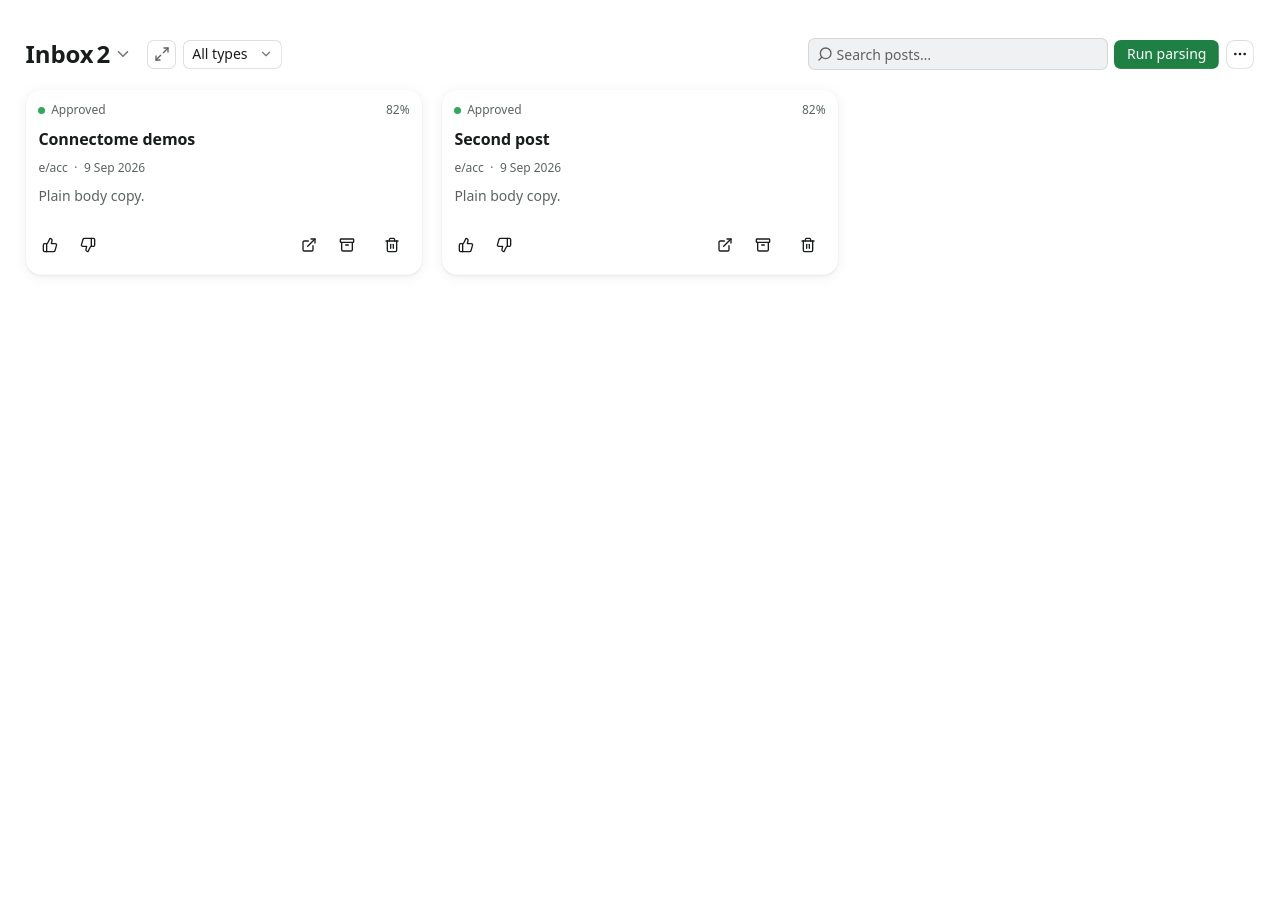
it: mode routing › opens the peek in drawer mode, from the list's own data and without a request
Click the button named "side panel".
click(162, 54)  # box [148,40,176,69]
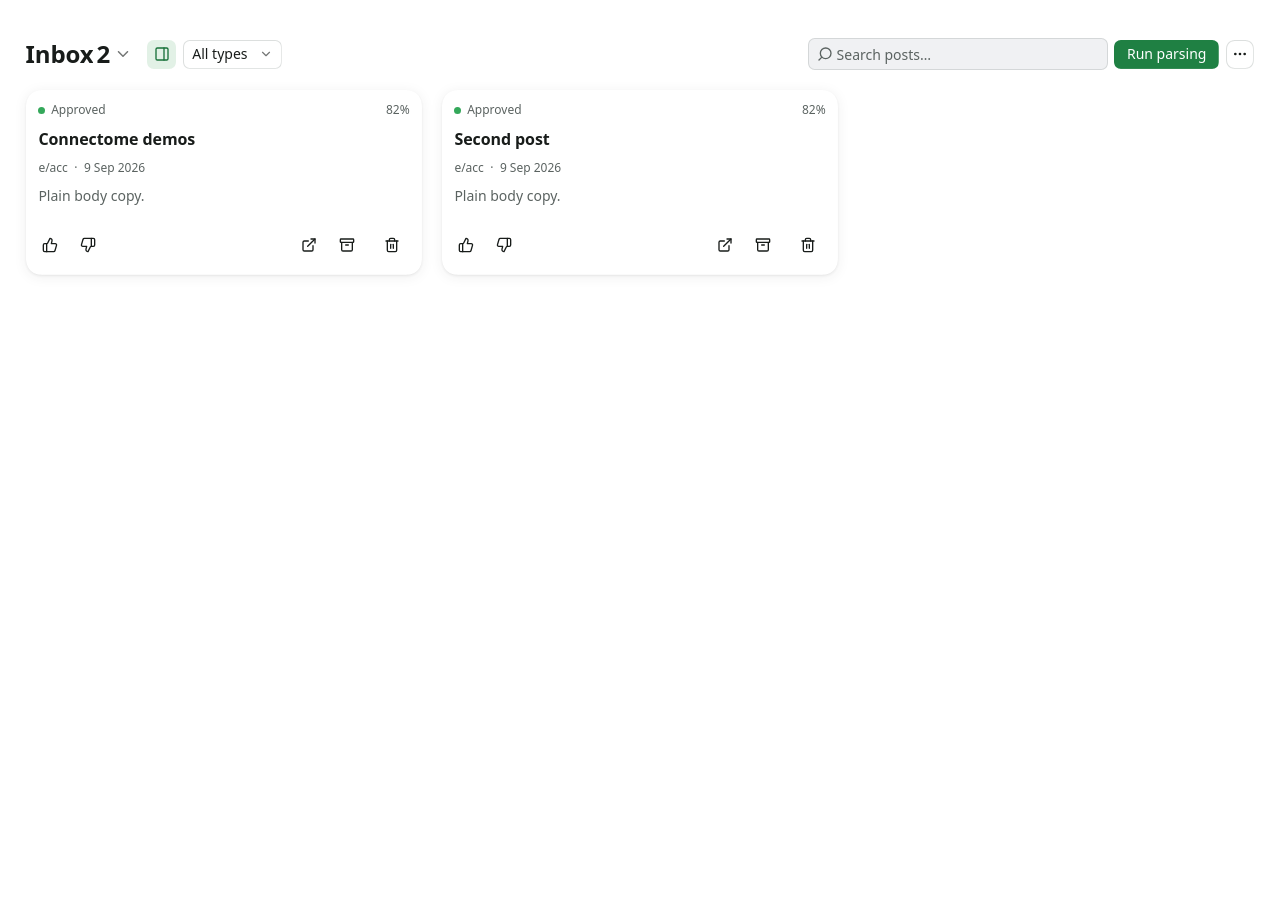
Click the button "Connectome demos".
click(78, 110)  # box [26,90,422,275]
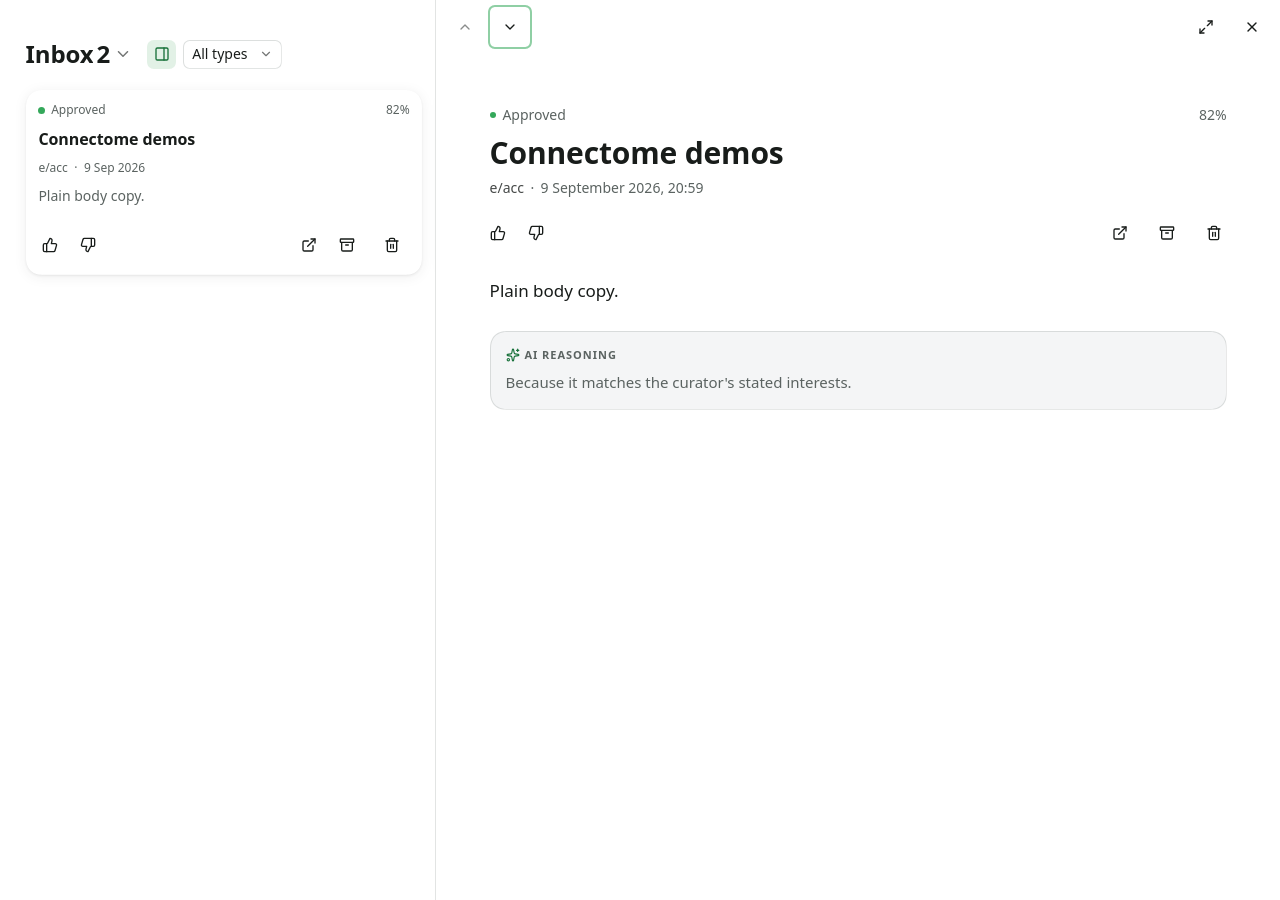
Now the 2nd heading "Connectome demos" is shown, box [490,132,784,173]
